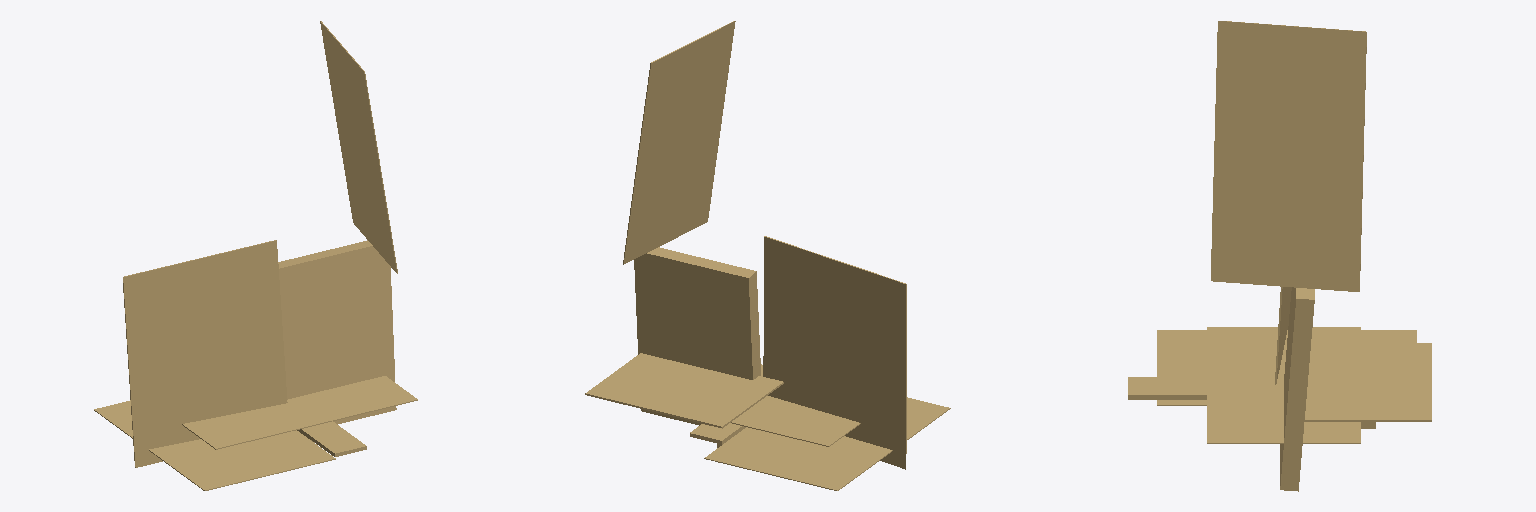
robot.urdf — evolved_design:
<?xml version="1.0" ?>
<robot name="evolved_design">
  <link name="base_link">
    <inertial>
      <mass value="0.001"/>
      <origin xyz="0 0 0" rpy="0 0 0"/>
      <inertia ixx="0.000001" ixy="0" ixz="0" iyy="0.000001" iyz="0" izz="0.000001"/>
    </inertial>
  </link>
  <link name="link_comp_0">
    <inertial>
      <mass value="0.601137"/>
      <origin xyz="0 0 0" rpy="0 0 0"/>
      <inertia ixx="0.009528798" ixy="0" ixz="0" iyy="0.000623806" iyz="0" izz="0.008941351"/>
    </inertial>
    <visual>
      <origin xyz="0 0 0" rpy="0 0 0"/>
      <geometry>
        <box size="0.019050 0.422050 0.109953"/>
      </geometry>
      <material name="link_comp_0_material">
        <color rgba="0.8 0.7 0.5 1"/>
      </material>
    </visual>
    <collision>
      <origin xyz="0 0 0" rpy="0 0 0"/>
      <geometry>
        <box size="0.019050 0.422050 0.109953"/>
      </geometry>
    </collision>
  </link>
  <joint name="base_link_to_link_comp_0" type="fixed">
    <parent link="base_link"/>
    <child link="link_comp_0"/>
    <origin xyz="0.009525 0.211025 0.054976" rpy="0.000000 0.000000 0.000000"/>
  </joint>
  <link name="link_comp_1">
    <inertial>
      <mass value="0.719914"/>
      <origin xyz="0 0 0" rpy="0 0 0"/>
      <inertia ixx="0.029328554" ixy="0" ixz="0" iyy="0.013645577" iyz="0" izz="0.042972921"/>
    </inertial>
    <visual>
      <origin xyz="0 0 0" rpy="0 0 0"/>
      <geometry>
        <box size="0.476910 0.699184 0.003175"/>
      </geometry>
      <material name="link_comp_1_material">
        <color rgba="0.8 0.7 0.5 1"/>
      </material>
    </visual>
    <collision>
      <origin xyz="0 0 0" rpy="0 0 0"/>
      <geometry>
        <box size="0.476910 0.699184 0.003175"/>
      </geometry>
    </collision>
  </link>
  <joint name="base_link_to_link_comp_1" type="fixed">
    <parent link="base_link"/>
    <child link="link_comp_1"/>
    <origin xyz="-0.238955 0.183647 0.062099" rpy="0.000000 0.000000 0.000000"/>
  </joint>
  <link name="link_comp_2">
    <inertial>
      <mass value="0.752391"/>
      <origin xyz="0 0 0" rpy="0 0 0"/>
      <inertia ixx="0.035443700" ixy="0" ixz="0" iyy="0.000852228" iyz="0" izz="0.036275702"/>
    </inertial>
    <visual>
      <origin xyz="0 0 0" rpy="0 0 0"/>
      <geometry>
        <box size="0.115892 0.751755 0.012700"/>
      </geometry>
      <material name="link_comp_2_material">
        <color rgba="0.8 0.7 0.5 1"/>
      </material>
    </visual>
    <collision>
      <origin xyz="0 0 0" rpy="0 0 0"/>
      <geometry>
        <box size="0.115892 0.751755 0.012700"/>
      </geometry>
    </collision>
  </link>
  <joint name="base_link_to_link_comp_2" type="fixed">
    <parent link="base_link"/>
    <child link="link_comp_2"/>
    <origin xyz="0.009355 0.131930 0.116803" rpy="0.000000 0.000000 0.000000"/>
  </joint>
  <link name="link_comp_3">
    <inertial>
      <mass value="7.973381"/>
      <origin xyz="0 0 0" rpy="0 0 0"/>
      <inertia ixx="0.217429432" ixy="0" ixz="0" iyy="0.328296722" iyz="0" izz="0.114189533"/>
    </inertial>
    <visual>
      <origin xyz="0 0 0" rpy="0 0 0"/>
      <geometry>
        <box size="0.411529 0.050000 0.569853"/>
      </geometry>
      <material name="link_comp_3_material">
        <color rgba="0.8 0.7 0.5 1"/>
      </material>
    </visual>
    <collision>
      <origin xyz="0 0 0" rpy="0 0 0"/>
      <geometry>
        <box size="0.411529 0.050000 0.569853"/>
      </geometry>
    </collision>
  </link>
  <joint name="base_link_to_link_comp_3" type="fixed">
    <parent link="base_link"/>
    <child link="link_comp_3"/>
    <origin xyz="0.205765 0.211244 0.284927" rpy="-0.076296 0.000000 0.000000"/>
  </joint>
  <link name="link_comp_4">
    <inertial>
      <mass value="1.135613"/>
      <origin xyz="0 0 0" rpy="0 0 0"/>
      <inertia ixx="0.040640646" ixy="0" ixz="0" iyy="0.067881395" iyz="0" izz="0.027245019"/>
    </inertial>
    <visual>
      <origin xyz="0 0 0" rpy="0 0 0"/>
      <geometry>
        <box size="0.536540 0.004750 0.655306"/>
      </geometry>
      <material name="link_comp_4_material">
        <color rgba="0.8 0.7 0.5 1"/>
      </material>
    </visual>
    <collision>
      <origin xyz="0 0 0" rpy="0 0 0"/>
      <geometry>
        <box size="0.536540 0.004750 0.655306"/>
      </geometry>
    </collision>
  </link>
  <joint name="base_link_to_link_comp_4" type="fixed">
    <parent link="base_link"/>
    <child link="link_comp_4"/>
    <origin xyz="-0.268770 0.187813 0.347075" rpy="-0.054786 -0.040631 -0.082233"/>
  </joint>
  <link name="link_comp_5">
    <inertial>
      <mass value="0.805765"/>
      <origin xyz="0 0 0" rpy="0 0 0"/>
      <inertia ixx="0.009749813" ixy="0" ixz="0" iyy="0.016110251" iyz="0" izz="0.025854649"/>
    </inertial>
    <visual>
      <origin xyz="0 0 0" rpy="0 0 0"/>
      <geometry>
        <box size="0.489780 0.380999 0.006350"/>
      </geometry>
      <material name="link_comp_5_material">
        <color rgba="0.8 0.7 0.5 1"/>
      </material>
    </visual>
    <collision>
      <origin xyz="0 0 0" rpy="0 0 0"/>
      <geometry>
        <box size="0.489780 0.380999 0.006350"/>
      </geometry>
    </collision>
  </link>
  <joint name="base_link_to_link_comp_5" type="fixed">
    <parent link="base_link"/>
    <child link="link_comp_5"/>
    <origin xyz="0.157400 0.381994 0.203558" rpy="0.000000 0.000000 0.000000"/>
  </joint>
  <link name="link_comp_6">
    <inertial>
      <mass value="0.641104"/>
      <origin xyz="0 0 0" rpy="0 0 0"/>
      <inertia ixx="0.037302975" ixy="0" ixz="0" iyy="0.028460161" iyz="0" izz="0.008843891"/>
    </inertial>
    <visual>
      <origin xyz="0 0 0" rpy="0 0 0"/>
      <geometry>
        <box size="0.003175 0.406851 0.729862"/>
      </geometry>
      <material name="link_comp_6_material">
        <color rgba="0.8 0.7 0.5 1"/>
      </material>
    </visual>
    <collision>
      <origin xyz="0 0 0" rpy="0 0 0"/>
      <geometry>
        <box size="0.003175 0.406851 0.729862"/>
      </geometry>
    </collision>
  </link>
  <joint name="base_link_to_link_comp_6" type="fixed">
    <parent link="base_link"/>
    <child link="link_comp_6"/>
    <origin xyz="0.288785 0.188091 0.935285" rpy="0.000000 -0.153479 -0.174028"/>
  </joint>
  <link name="link_comp_7">
    <inertial>
      <mass value="0.711865"/>
      <origin xyz="0 0 0" rpy="0 0 0"/>
      <inertia ixx="0.010215128" ixy="0" ixz="0" iyy="0.032112316" iyz="0" izz="0.042326049"/>
    </inertial>
    <visual>
      <origin xyz="0 0 0" rpy="0 0 0"/>
      <geometry>
        <box size="0.735737 0.414953 0.003429"/>
      </geometry>
      <material name="link_comp_7_material">
        <color rgba="0.8 0.7 0.5 1"/>
      </material>
    </visual>
    <collision>
      <origin xyz="0 0 0" rpy="0 0 0"/>
      <geometry>
        <box size="0.735737 0.414953 0.003429"/>
      </geometry>
    </collision>
  </link>
  <joint name="base_link_to_link_comp_7" type="fixed">
    <parent link="base_link"/>
    <child link="link_comp_7"/>
    <origin xyz="0.008643 0.175134 0.125367" rpy="0.000000 0.000000 0.000000"/>
  </joint>
</robot>

--- Render facts (derived) ---
3 views of the same robot in one strip: view 1: azimuth 30°, elevation 25°; view 2: azimuth 150°, elevation 25°; view 3: azimuth 270°, elevation 25° (orthographic).
Model evolved_design with 9 links and 8 joints (8 fixed), rooted at base_link, posed all joints at 0.
Visible links, largest first — view 1: link_comp_4, link_comp_3, link_comp_6, link_comp_1, link_comp_7, link_comp_2; view 2: link_comp_4, link_comp_6, link_comp_3, link_comp_5, link_comp_1, link_comp_7, link_comp_2; view 3: link_comp_6, link_comp_7, link_comp_5, link_comp_3, link_comp_1, link_comp_2, link_comp_4.
Boxes of the visible links, x1,y1,x2,y2 form: link_comp_4: [123, 240, 287, 467]; link_comp_3: [278, 240, 396, 424]; link_comp_6: [320, 21, 397, 273]; link_comp_1: [94, 400, 335, 490]; link_comp_7: [182, 376, 417, 449]; link_comp_2: [298, 421, 366, 456]; link_comp_4: [763, 236, 906, 469]; link_comp_6: [623, 21, 735, 264]; link_comp_3: [634, 247, 760, 425]; link_comp_5: [585, 353, 783, 428]; link_comp_1: [704, 397, 950, 490]; link_comp_7: [731, 364, 860, 446]; link_comp_2: [690, 423, 744, 444]; link_comp_6: [1211, 21, 1366, 291]; link_comp_7: [1207, 327, 1360, 443]; link_comp_5: [1305, 343, 1431, 421]; link_comp_3: [1280, 287, 1314, 491]; link_comp_1: [1157, 330, 1416, 405]; link_comp_2: [1128, 377, 1206, 399]; link_comp_4: [1275, 287, 1291, 384].
Size in the robot's own frame: 0.9594 by 0.8164 by 1.3 metres.
Geometry: primitives only (box / cylinder / sphere), no mesh files.